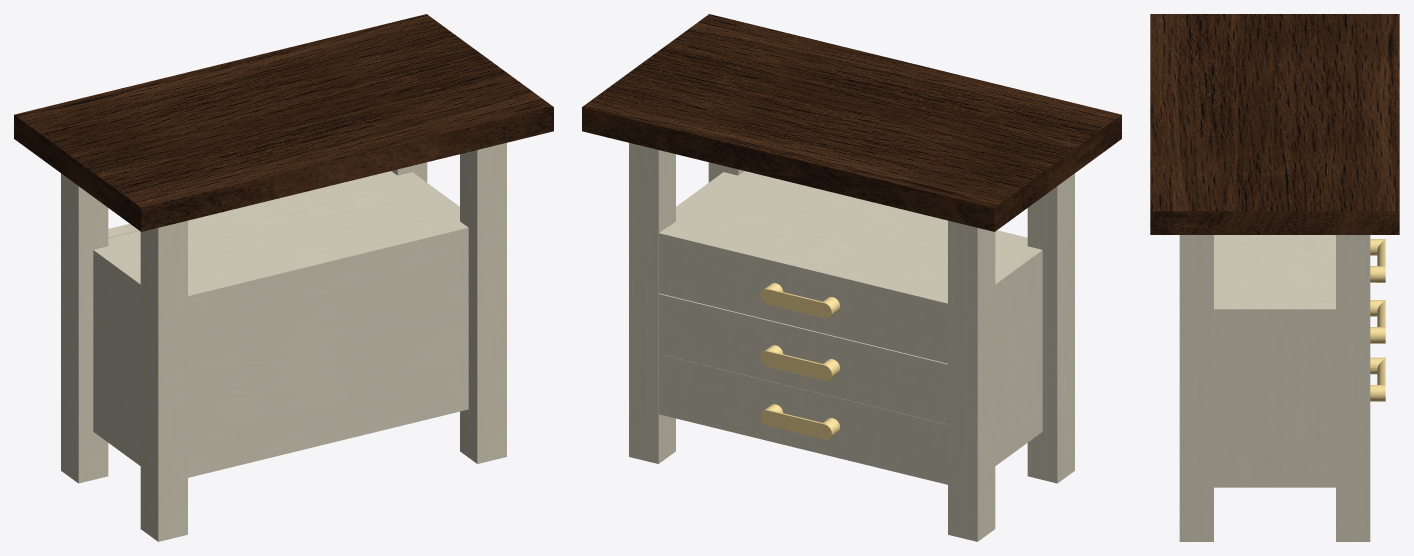
Rendered from 3. 서랍장.fbx.
The picture shows the model from 3 angles, left to right: view 1: azimuth 30°, elevation 25°; view 2: azimuth 150°, elevation 25°; view 3: azimuth 270°, elevation 25°; orthographic projection. The views are drawn at different scales.
Parts seen in each view (by area): view 1: 서랍장; view 2: 서랍장, 서랍장_서랍; view 3: 서랍장, 서랍장_서랍.
Part boxes in pixels (x1=…): 서랍장: x1=14, y1=14, x2=553, y2=541; 서랍장: x1=582, y1=14, x2=1121, y2=541; 서랍장_서랍: x1=659, y1=226, x2=947, y2=363; 서랍장: x1=1150, y1=14, x2=1399, y2=541; 서랍장_서랍: x1=1370, y1=239, x2=1385, y2=282.
Bounding box in the file's own units: 183 × 150 × 97.72.
Materials: 3 (3 with a texture image).
